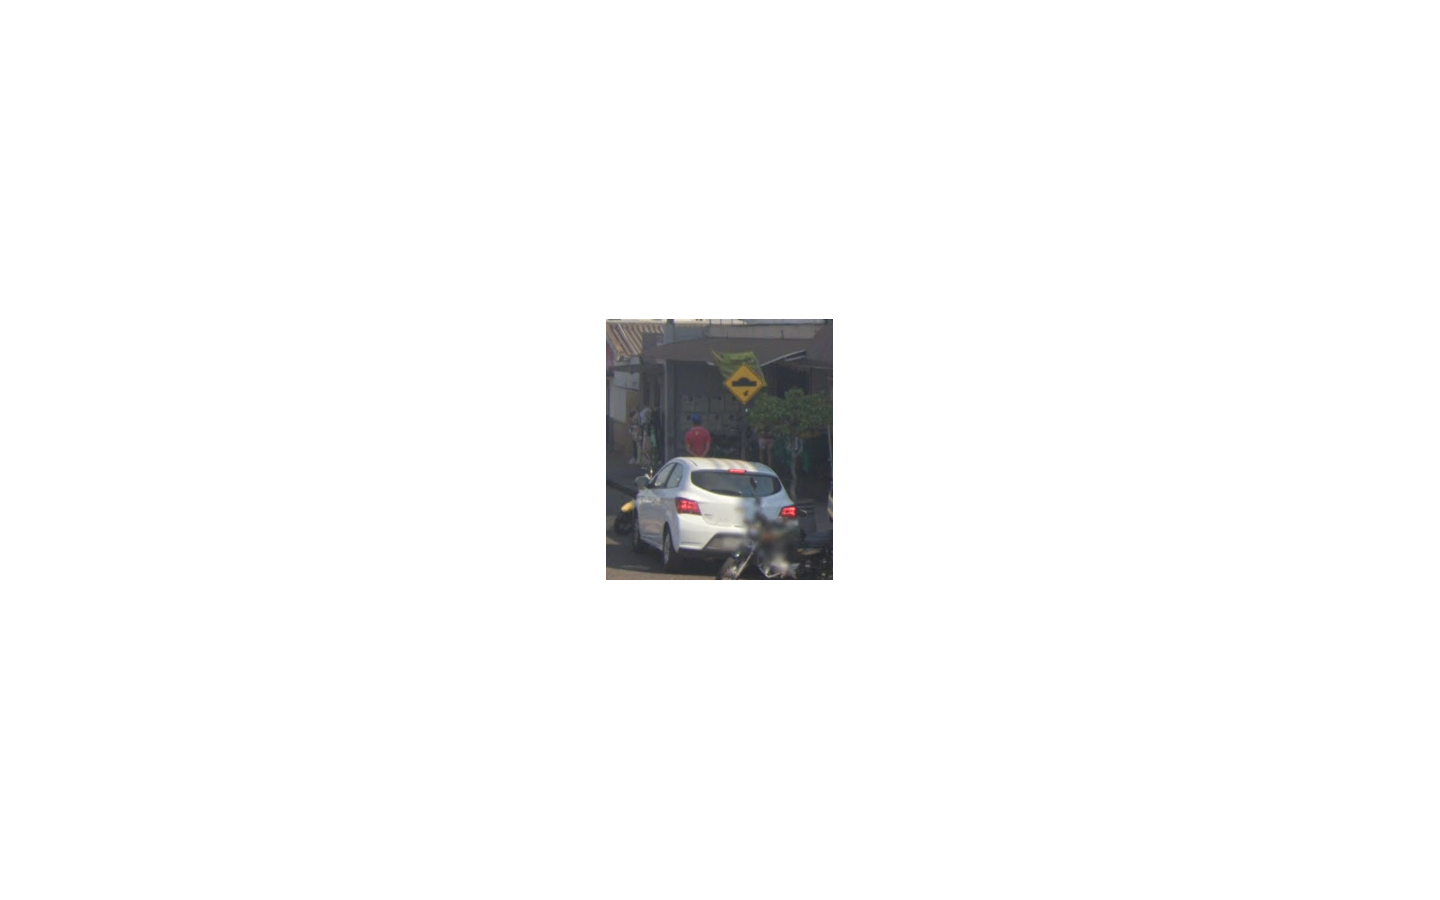lomb: (723, 362, 764, 406)
